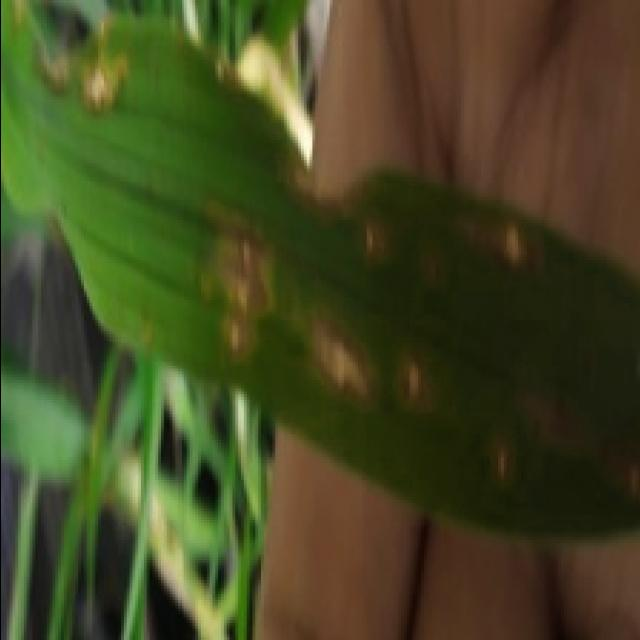Unhealthy: (216, 224, 274, 364), (303, 312, 379, 412), (287, 160, 383, 228), (75, 19, 129, 113), (459, 217, 539, 277), (519, 396, 582, 452), (596, 442, 640, 503), (33, 40, 69, 94), (397, 355, 430, 413), (357, 219, 390, 265), (489, 438, 512, 487), (419, 242, 441, 287), (5, 0, 25, 29)
